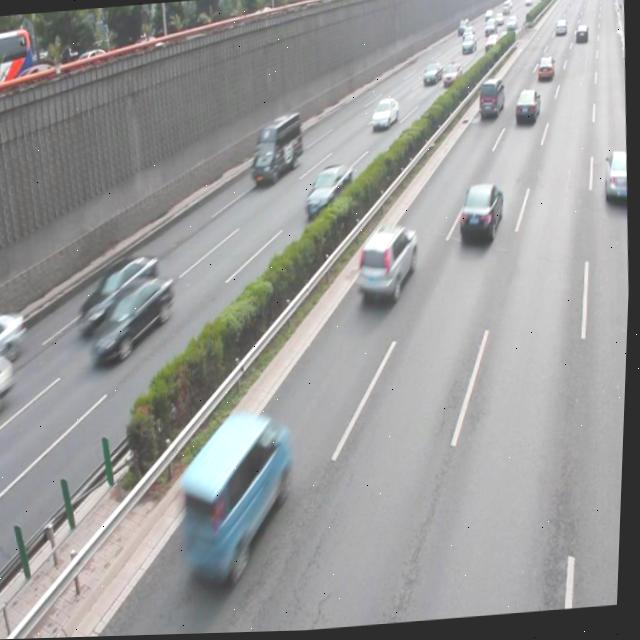car: (175, 410, 298, 581), (89, 274, 178, 365), (76, 252, 163, 335), (355, 225, 422, 308), (456, 183, 506, 248), (303, 163, 355, 219), (602, 152, 631, 207)
truck: (249, 113, 306, 188)
